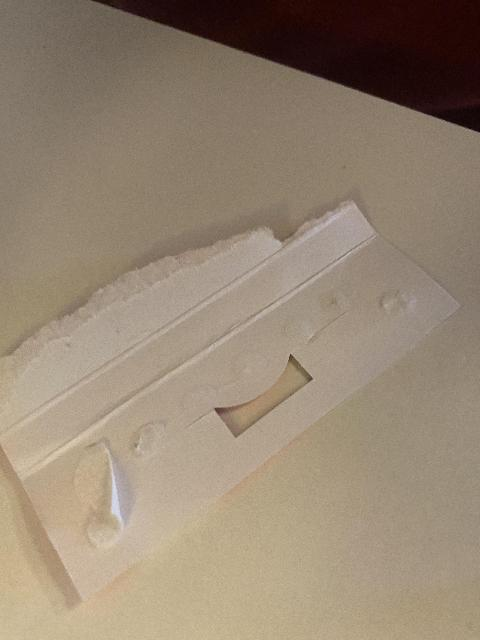Kagit: (0, 198, 463, 602)
